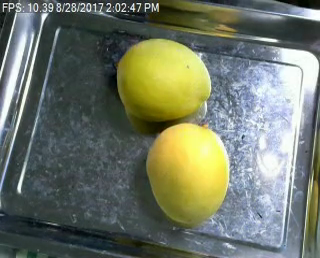Mango: (146, 124, 229, 221), (116, 38, 210, 119)
